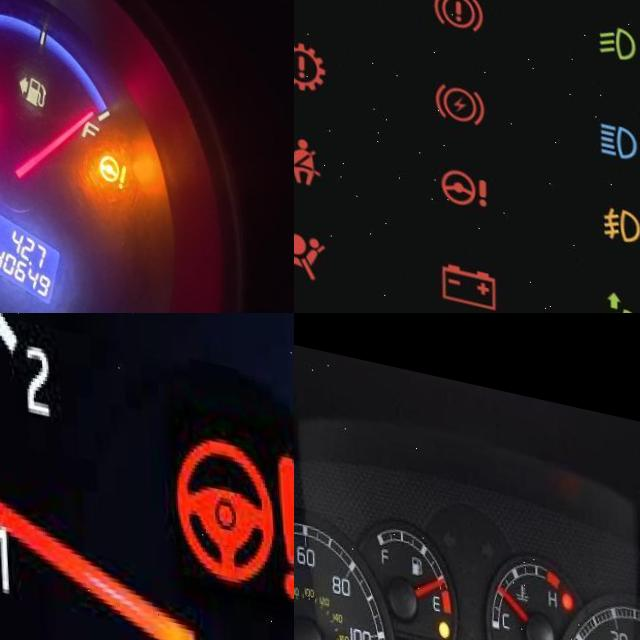Electronic Power Steering: (92, 135, 129, 174)
Electronic Power Steering Warning: (168, 416, 294, 586), (433, 154, 485, 201)
Seat Belt: (294, 129, 316, 189)
